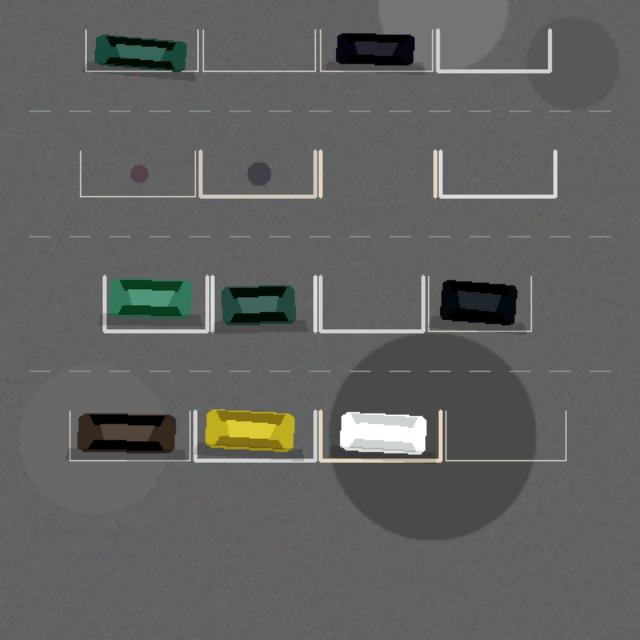space-empty: (445, 411, 565, 460), (320, 276, 423, 331), (80, 151, 195, 196), (200, 151, 315, 196), (320, 151, 435, 196), (440, 151, 555, 196), (203, 29, 315, 71), (437, 29, 549, 71)
space-occupied: (69, 411, 189, 460), (195, 411, 315, 460), (320, 411, 440, 460), (104, 276, 207, 331), (212, 276, 315, 331), (428, 276, 531, 331), (85, 29, 197, 71), (320, 29, 432, 71)
